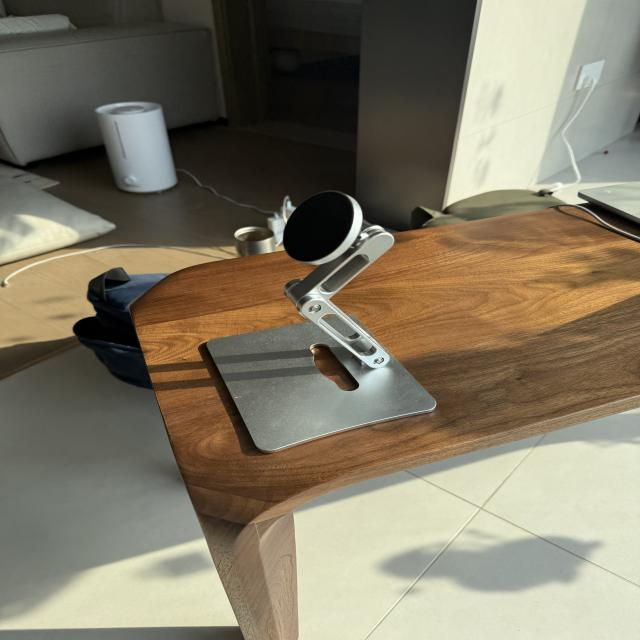phone holder: (201, 185, 442, 458)
